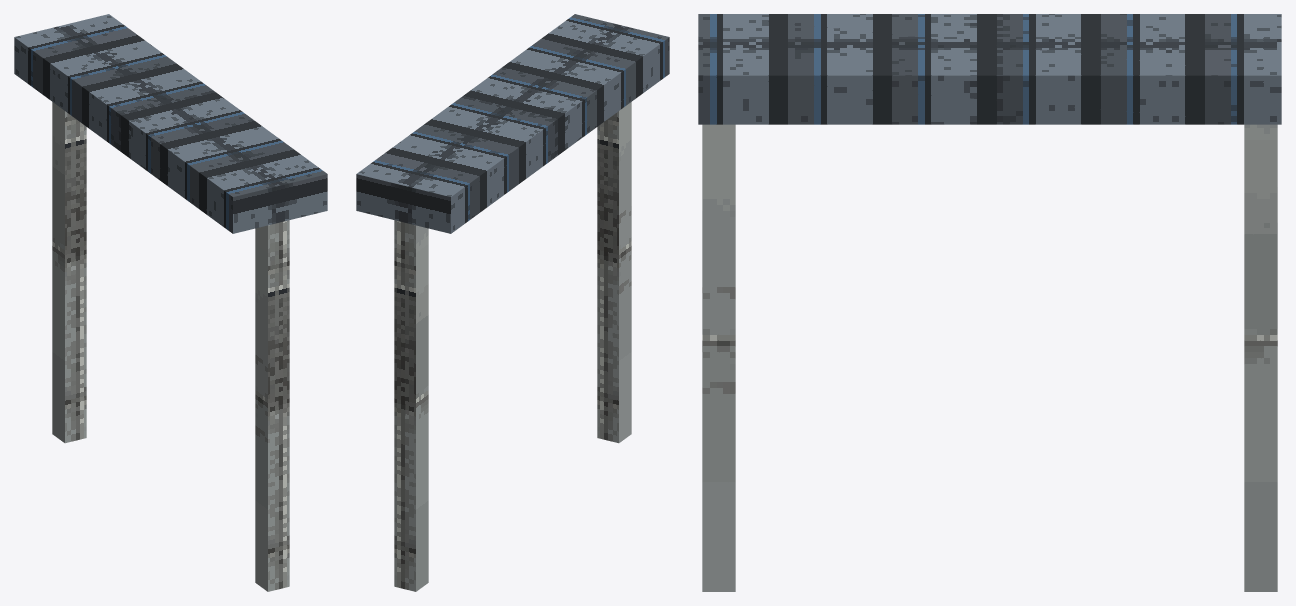
File: cf_shutter_track.glb
3 renders of one model, left to right at view 1: azimuth 30°, elevation 25°; view 2: azimuth 150°, elevation 25°; view 3: azimuth 270°, elevation 25°, orthographic. The views are drawn at different scales.
Visible parts, largest first — view 1: track_head, track_rail_-1, track_rail_1; view 2: track_head, track_rail_1, track_rail_-1; view 3: track_head, track_rail_-1, track_rail_1.
Part boxes in pixels (bbox=[...]): track_head: bbox=[14, 14, 327, 233]; track_rail_-1: bbox=[255, 220, 289, 591]; track_rail_1: bbox=[52, 102, 86, 443]; track_head: bbox=[356, 14, 669, 233]; track_rail_1: bbox=[394, 220, 428, 591]; track_rail_-1: bbox=[597, 102, 631, 443]; track_head: bbox=[698, 14, 1281, 124]; track_rail_-1: bbox=[702, 124, 735, 591]; track_rail_1: bbox=[1244, 124, 1277, 591].
Bounding box in the file's own units: 0.7 × 2.86 × 2.8.
Materials: 3 (3 with a texture image).
